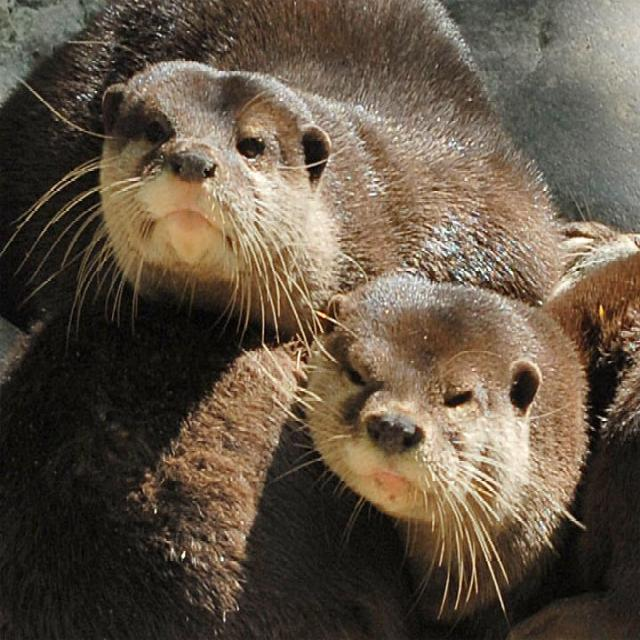otter: (1, 1, 562, 328), (309, 248, 640, 606)
